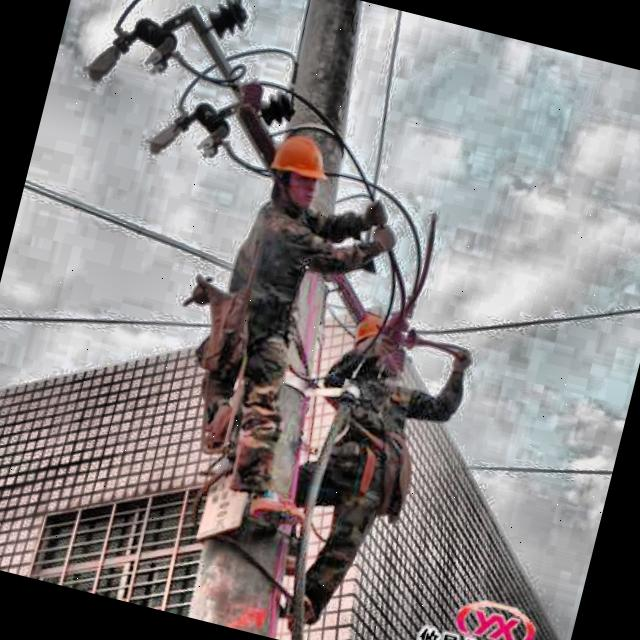helmet: (259, 123, 338, 220), (342, 306, 409, 376)
